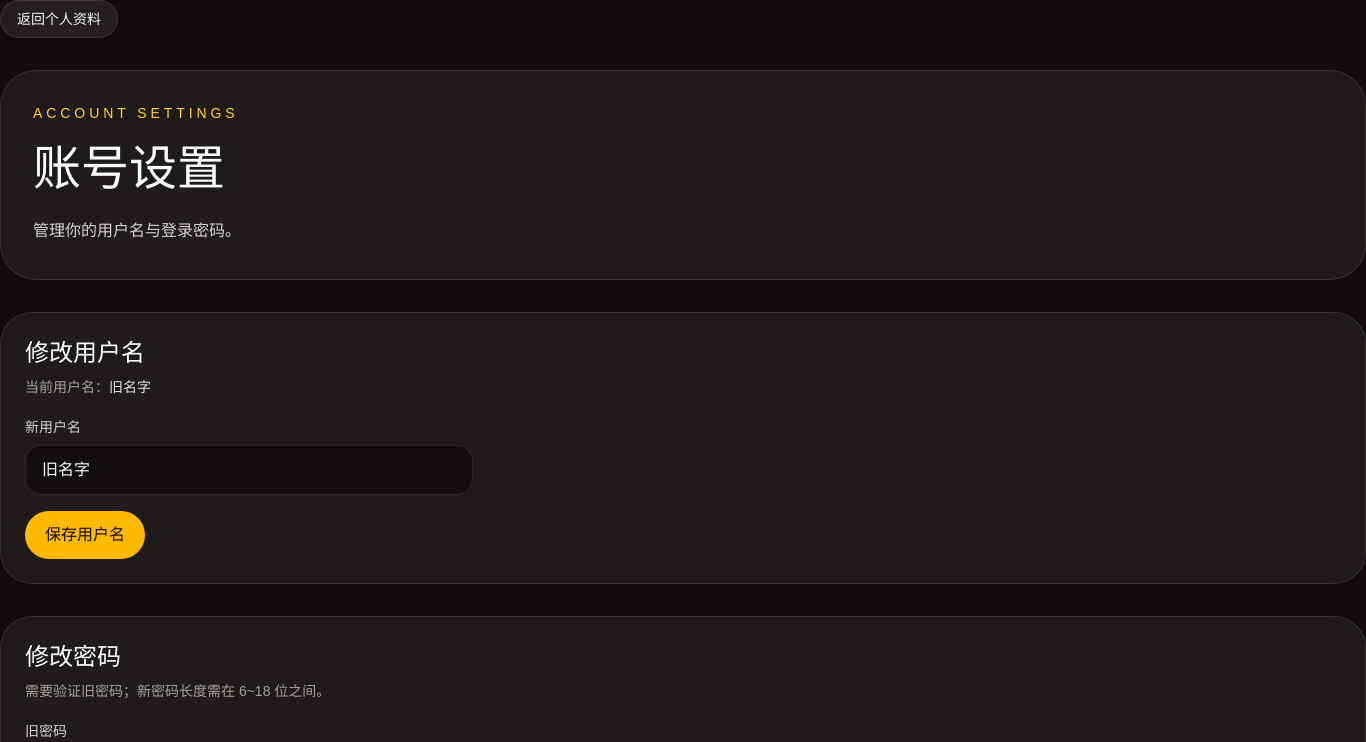
Test case: AccountPage › updates the username on submit
The image size is (1366, 742).
Step 1. Replace the text in the field labelled "新用户名" with "新名字" → (249, 470), box [25,445,473,495]
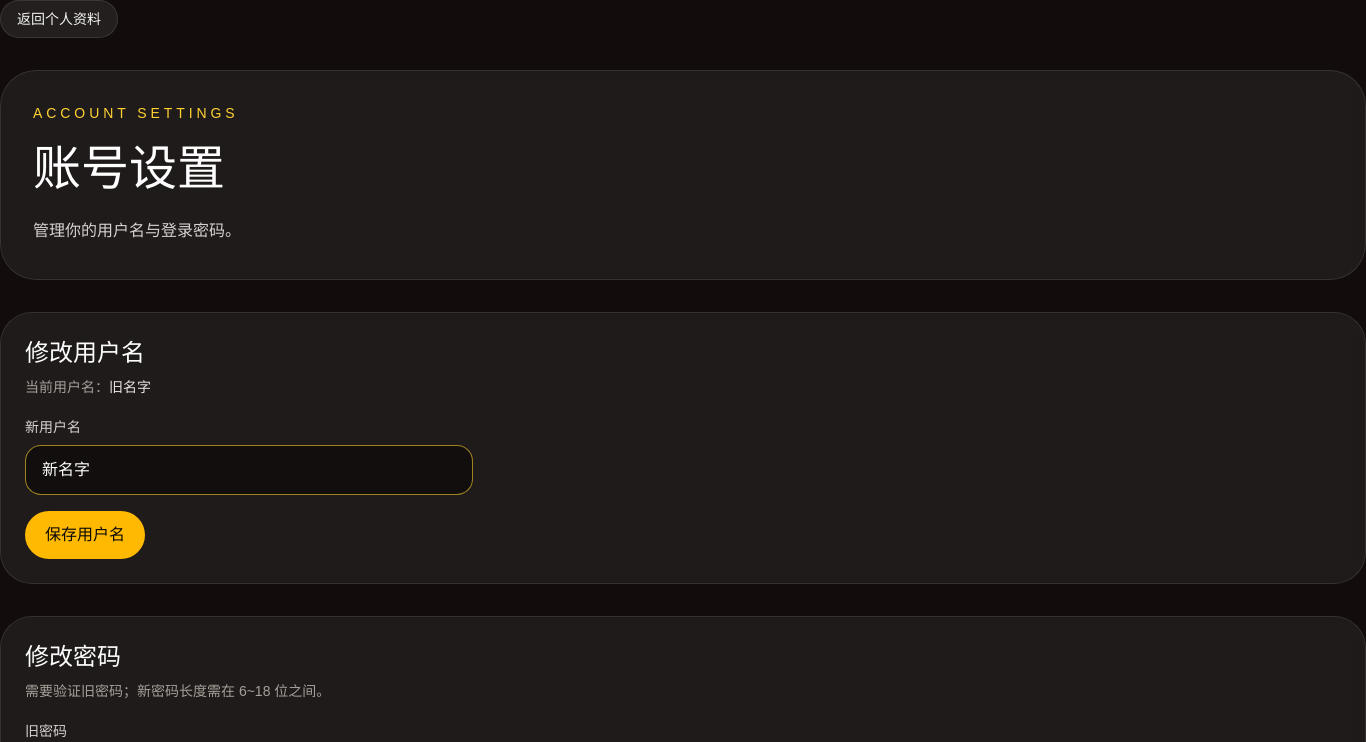
Step 2. Click the button "保存用户名" → (85, 535), box [25,511,145,559]
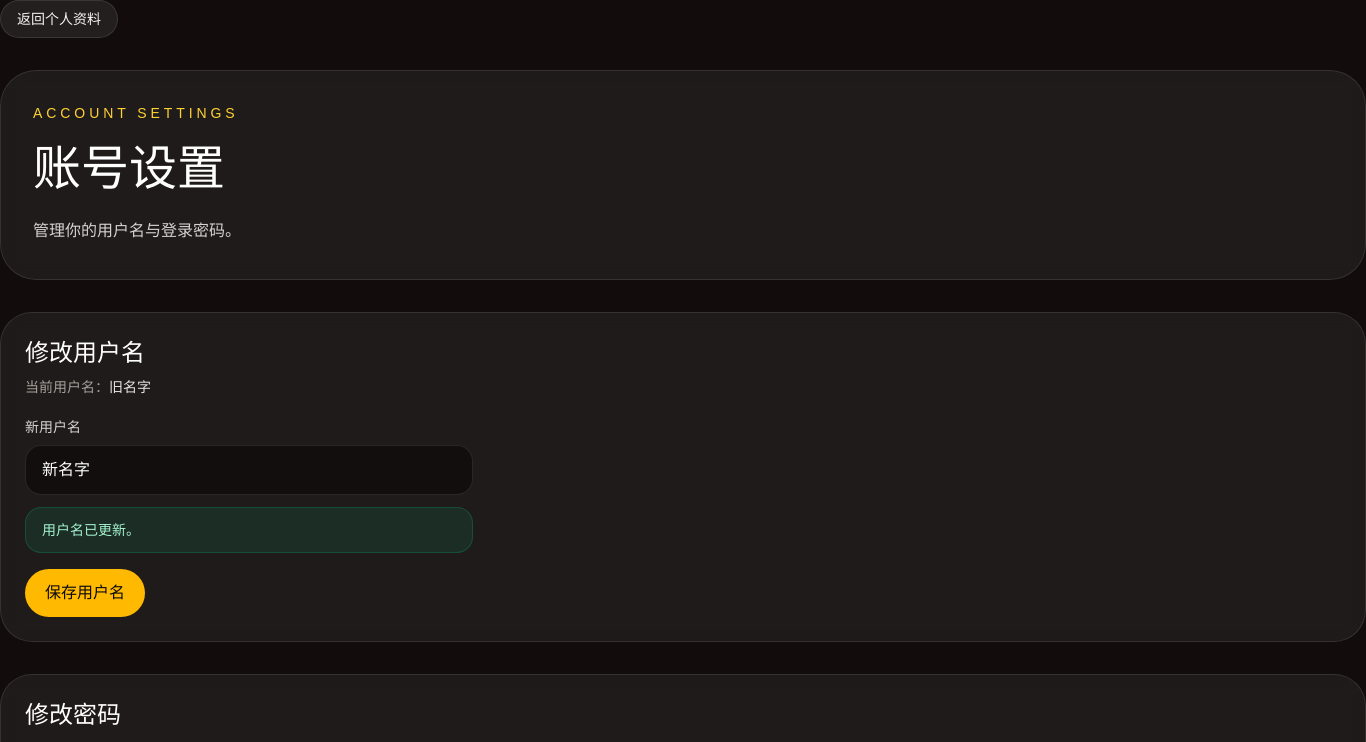
Now the text "用户名已更新。" is shown, box [25,507,473,553]
